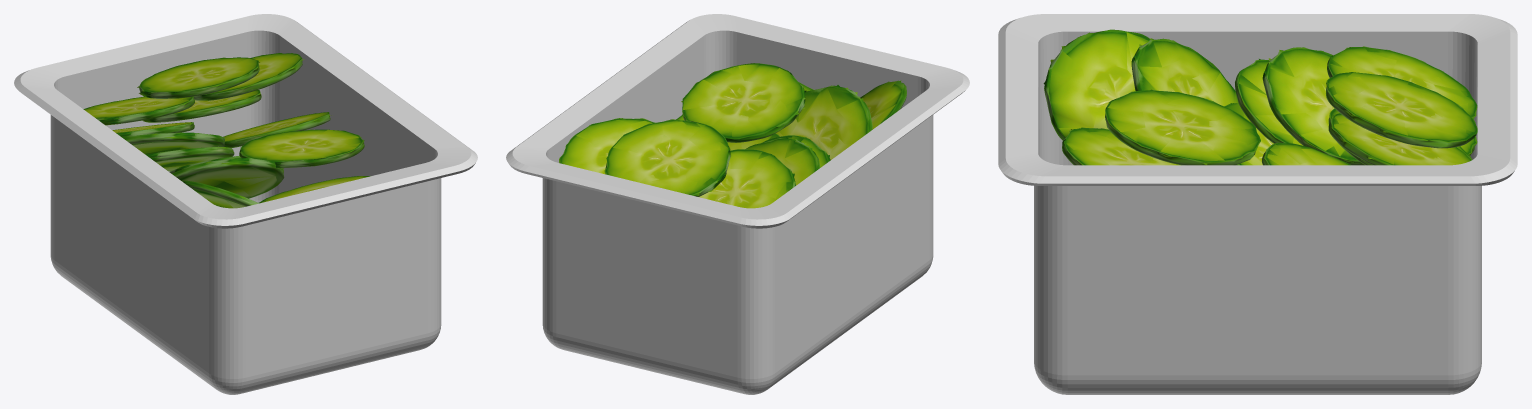
The model's file is Box Of Cucumber.fbx.
3 views of the same model, side by side, from view 1: azimuth 30°, elevation 25°; view 2: azimuth 150°, elevation 25°; view 3: azimuth 270°, elevation 25° (orthographic). The views are drawn at different scales.
Visible parts, largest first — view 1: Cucumber_Container, Cucumber; view 2: Cucumber_Container, Cucumber; view 3: Cucumber_Container, Cucumber.
Part boxes in pixels (x1,y1,x2,y2): Cucumber_Container: [14, 14, 477, 394]; Cucumber: [83, 53, 370, 208]; Cucumber_Container: [506, 14, 969, 394]; Cucumber: [559, 63, 906, 208]; Cucumber_Container: [998, 14, 1517, 394]; Cucumber: [1043, 29, 1477, 165].
Bounding box in the file's own units: 16.78 × 12.02 × 21.97.
2 materials, 1 textured.
